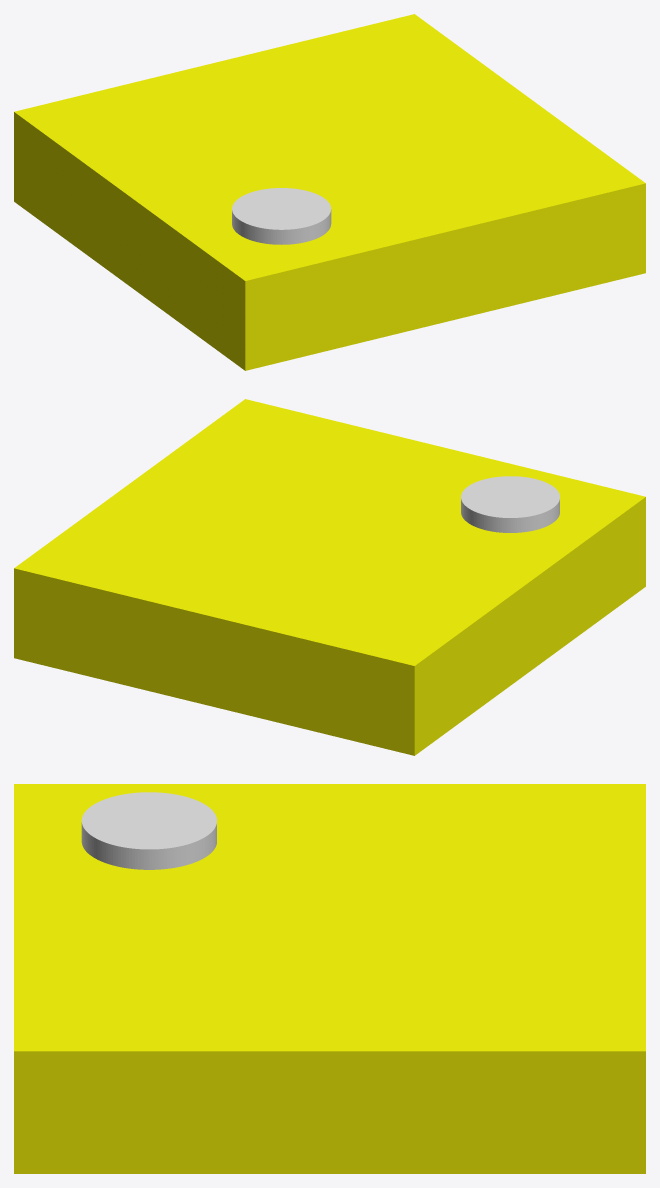
File: field.glb
3 renders of one model, top to bottom at view 1: azimuth 30°, elevation 25°; view 2: azimuth 150°, elevation 25°; view 3: azimuth 270°, elevation 25°, orthographic. The views are drawn at different scales.
Visible parts, largest first — view 1: Field, Field.001, Cylinder; view 2: Field, Field.001, Cylinder; view 3: Field, Field.001, Cylinder.
Part boxes in pixels (left/top/right/bottom): Field: left=14, top=14, right=645, bottom=370; Field.001: left=14, top=15, right=645, bottom=368; Cylinder: left=232, top=188, right=331, bottom=244; Field: left=14, top=399, right=645, bottom=755; Field.001: left=106, top=431, right=645, bottom=754; Cylinder: left=461, top=476, right=559, bottom=532; Field: left=14, top=784, right=645, bottom=1173; Field.001: left=14, top=796, right=645, bottom=1173; Cylinder: left=81, top=792, right=216, bottom=869.
Bounding box in the file's own units: 7 × 1.75 × 7.
